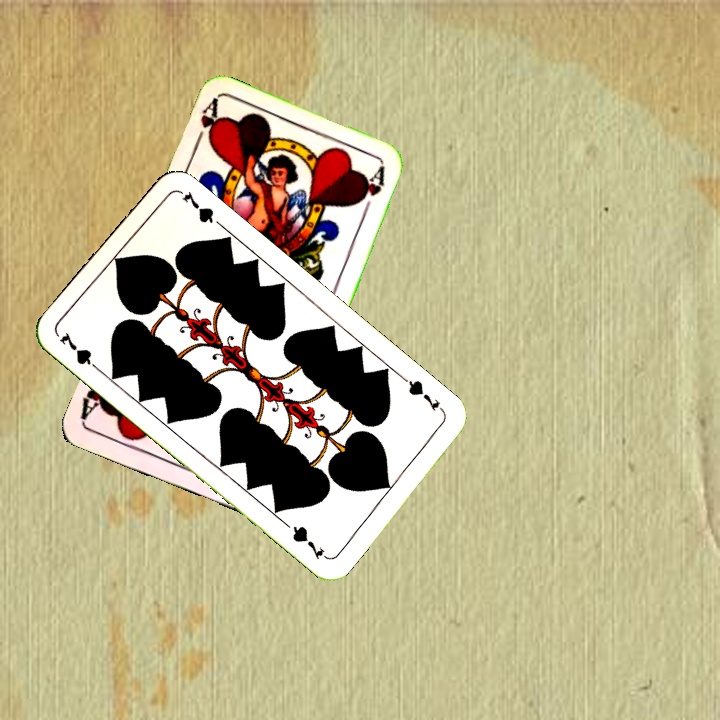G7: (55, 328, 105, 375), (399, 373, 448, 416)
HA: (189, 96, 223, 154)
